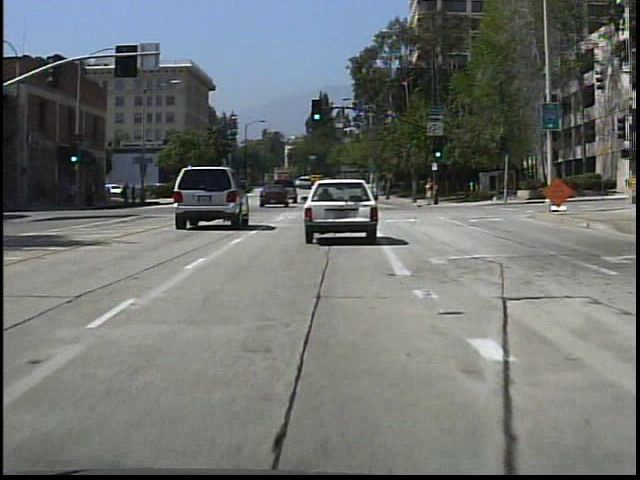person: (420, 174, 436, 209)
